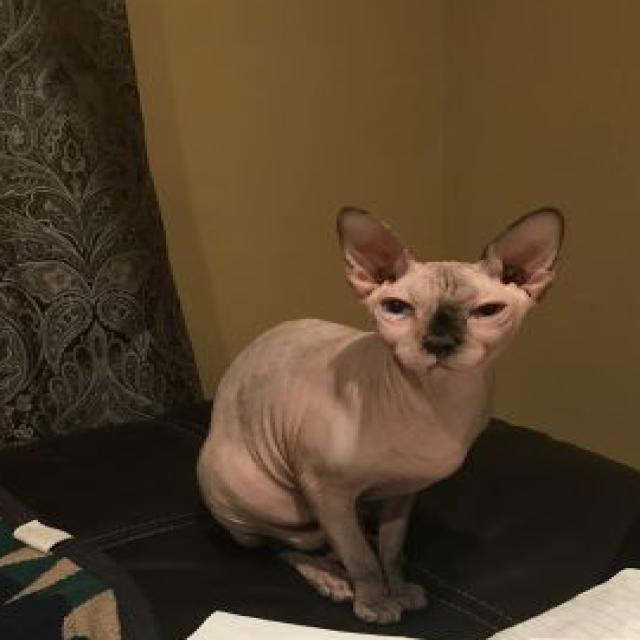Sphynx: (191, 200, 571, 630)
